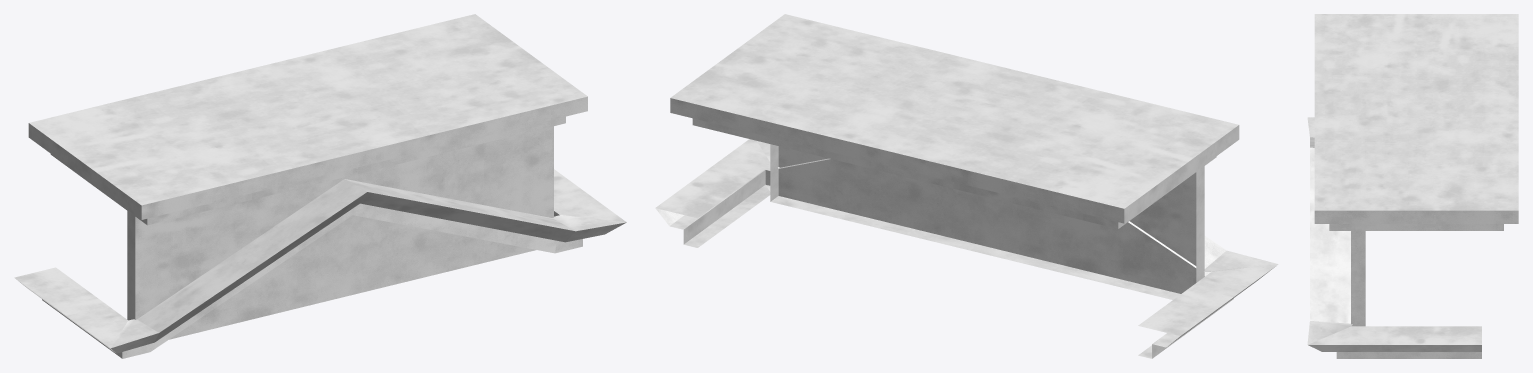
The model's file is window curbs.fbx.
3 renders of one model, left to right at view 1: azimuth 30°, elevation 25°; view 2: azimuth 150°, elevation 25°; view 3: azimuth 270°, elevation 25°, orthographic. The views are drawn at different scales.
Parts seen in each view (by area): view 1: WallTex5.001, WallTex5.002; view 2: WallTex5.002, WallTex5.001; view 3: WallTex5.002, WallTex5.001.
Boxes of the visible parts, <box> form: WallTex5.001: <box>14,89,626,358</box>; WallTex5.002: <box>28,14,587,225</box>; WallTex5.002: <box>670,14,1239,228</box>; WallTex5.001: <box>655,32,1278,358</box>; WallTex5.002: <box>1314,14,1518,230</box>; WallTex5.001: <box>1307,20,1481,358</box>.
Size of the model in its own units: 185 by 55.41 by 72.5.
